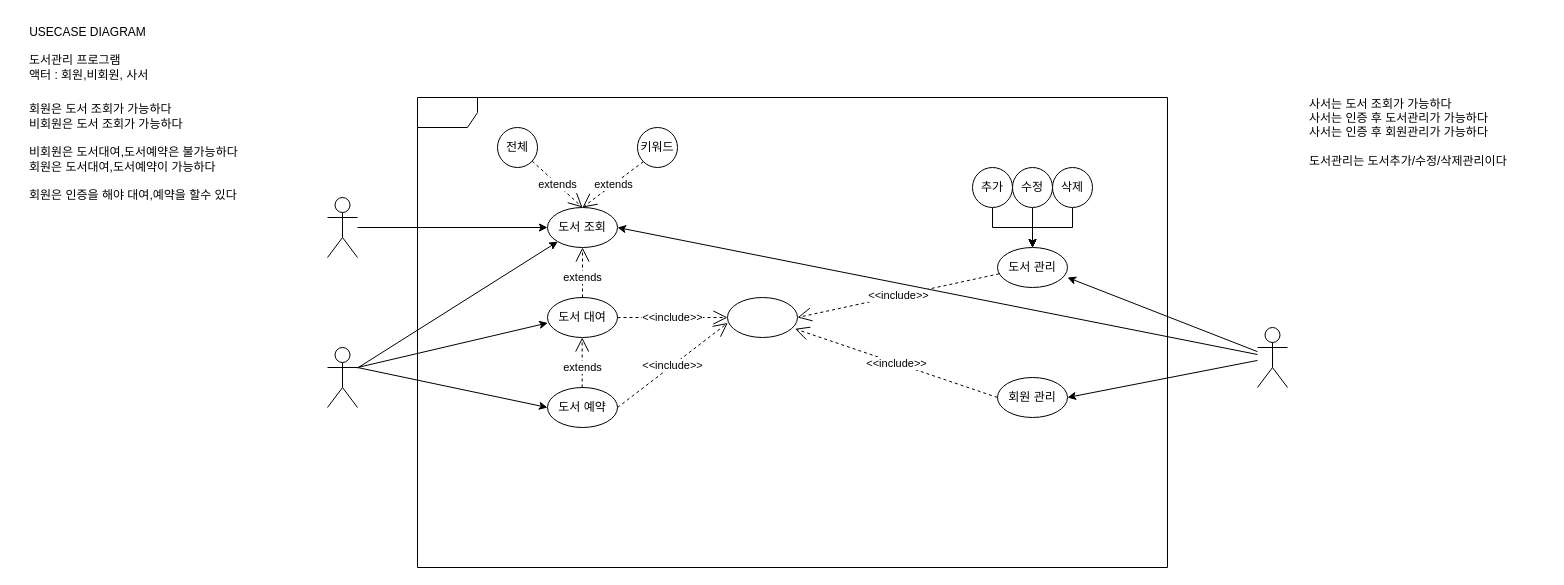
This 1564x585 diagram has some shape labels left out. The shapes that lost their labels are listed below. From the top down, each one's box as (x1, y1, x2, y2) in pixels, then its label:
(326, 196, 358, 258): 비회원
(726, 296, 798, 338): 인증
(416, 96, 1168, 568): 시스템
(326, 346, 358, 408): 회원
(1256, 326, 1288, 388): 사서
